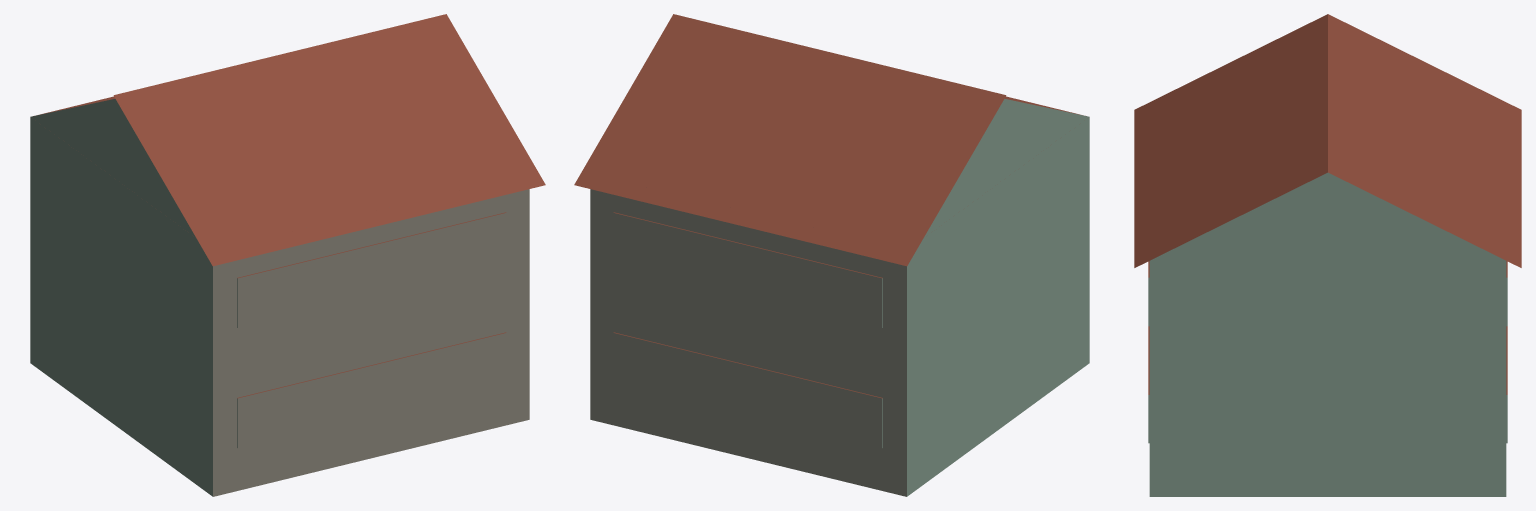
File: cove-house-green.far-facades-v1.lod2.glb
3 renders of one model, left to right at view 1: azimuth 30°, elevation 25°; view 2: azimuth 150°, elevation 25°; view 3: azimuth 270°, elevation 25°, orthographic. The views are drawn at different scales.
Parts seen in each view (by area): view 1: cove-house-green; view 2: cove-house-green; view 3: cove-house-green.
Boxes of the visible parts, left/top/right/bottom form: cove-house-green: left=30, top=14, right=545, bottom=496; cove-house-green: left=574, top=14, right=1089, bottom=496; cove-house-green: left=1134, top=14, right=1521, bottom=496.
Bounding box in the file's own units: 8.42 × 8.13 × 8.7.
